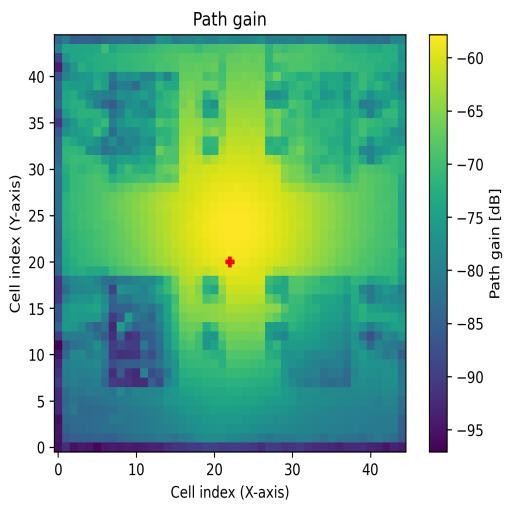Concrete: (282, 72, 359, 182)
Glass: (109, 71, 180, 182)
Metal: (266, 276, 351, 388)
Wood: (102, 275, 180, 389)
